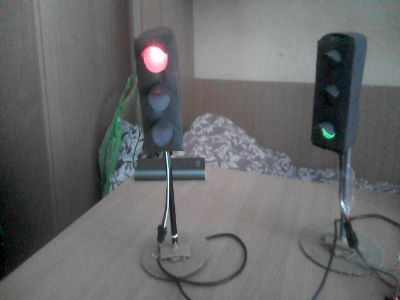trafficlight_green: (312, 38, 356, 146)
trafficlight_red: (135, 38, 176, 150)
